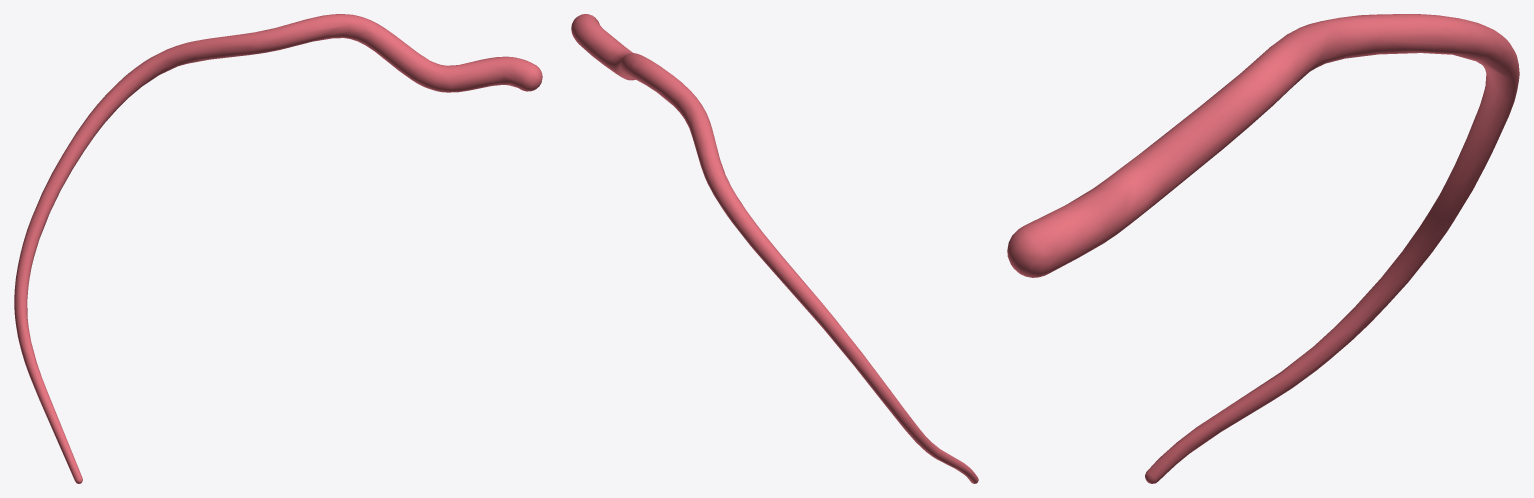
File: fma15424_fj3111.glb
The picture shows the model from 3 angles, left to right: view 1: azimuth 30°, elevation 25°; view 2: azimuth 150°, elevation 25°; view 3: azimuth 270°, elevation 25°; orthographic projection. The views are drawn at different scales.
Parts seen in each view (by area): view 1: FMA15424_FJ3111; view 2: FMA15424_FJ3111; view 3: FMA15424_FJ3111.
Part boxes in pixels (<box>): FMA15424_FJ3111: <box>14,14,542,483</box>; FMA15424_FJ3111: <box>571,14,978,483</box>; FMA15424_FJ3111: <box>1007,14,1519,483</box>.
Size of the model in its own units: 0.0588 by 0.0482 by 0.0319.
